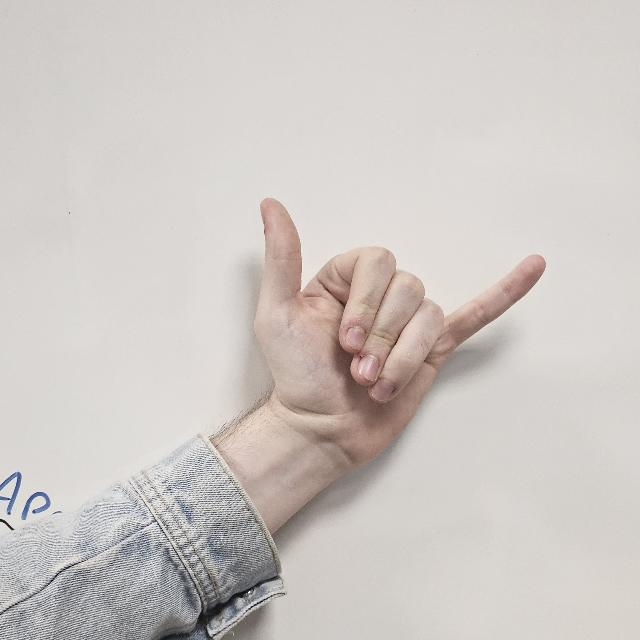Direita: (232, 194, 542, 471)
